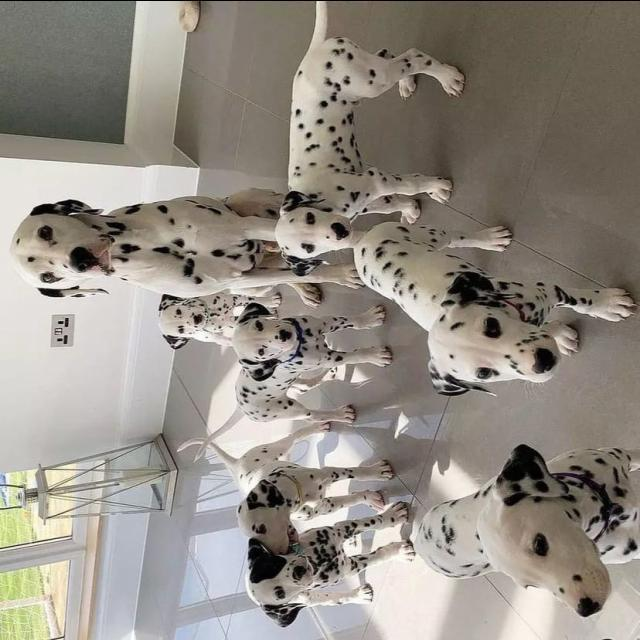Dogs: (276, 0, 466, 281), (350, 216, 640, 396), (8, 192, 368, 309), (412, 438, 640, 618), (171, 294, 397, 458), (174, 416, 400, 556), (241, 495, 415, 631), (150, 274, 288, 356)
